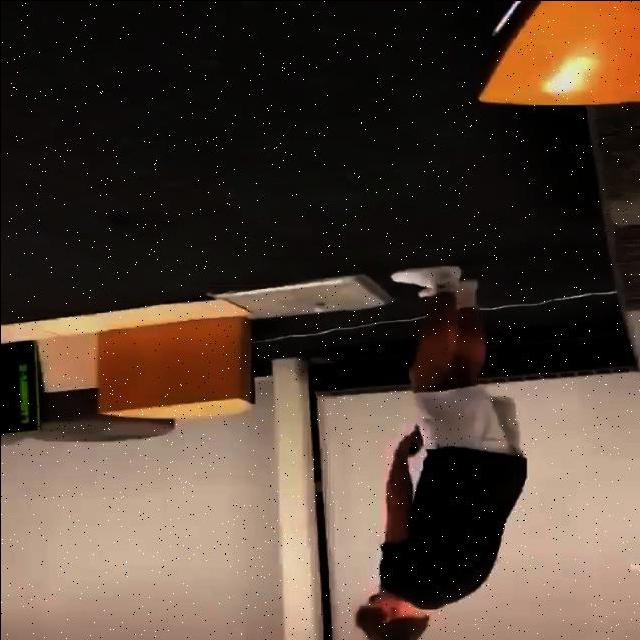golf ball: (313, 302, 327, 313)
golf club-handle: (406, 428, 420, 455)
